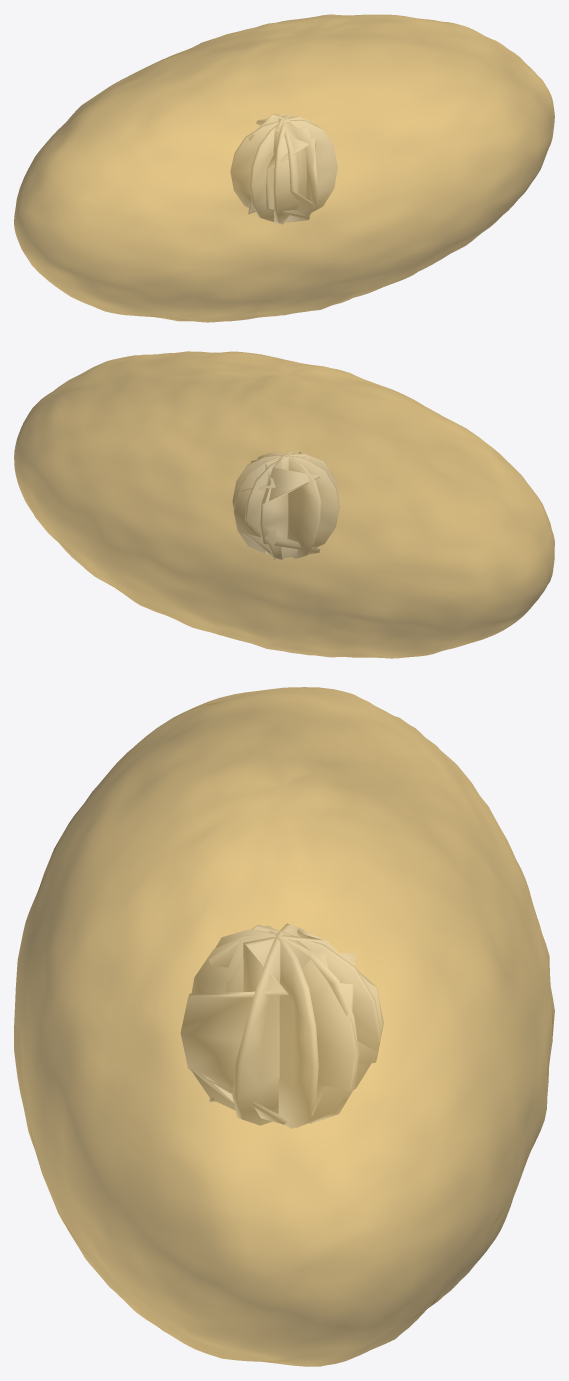
The model's file is mito_realistic.glb.
The picture shows the model from 3 angles, top to bottom: view 1: azimuth 30°, elevation 25°; view 2: azimuth 150°, elevation 25°; view 3: azimuth 270°, elevation 25°; orthographic projection. The views are drawn at different scales.
Parts seen in each view (by area): view 1: mitochondrion; view 2: mitochondrion; view 3: mitochondrion.
Part boxes in pixels (bbox=[...]): mitochondrion: bbox=[14, 14, 554, 322]; mitochondrion: bbox=[14, 351, 554, 658]; mitochondrion: bbox=[14, 687, 554, 1366].
Bounding box in the file's own units: 3.98 × 1.91 × 1.92.
